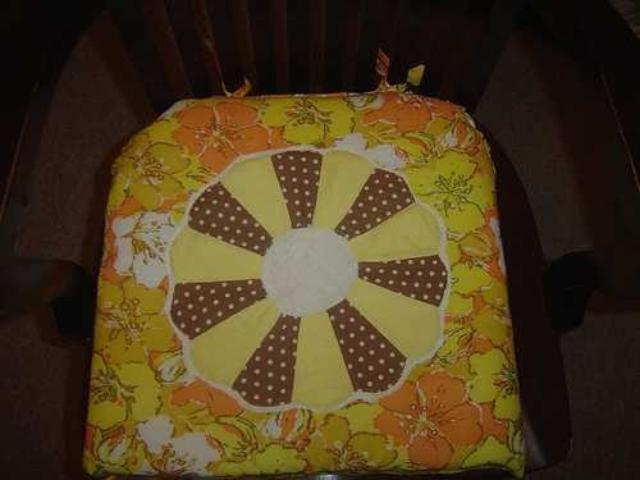pillow: (80, 87, 526, 478)
